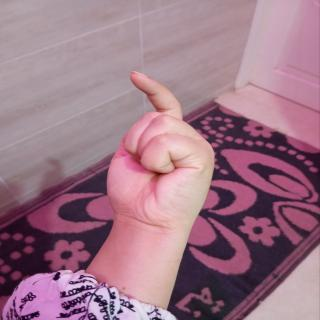RAA: (88, 61, 222, 240)
